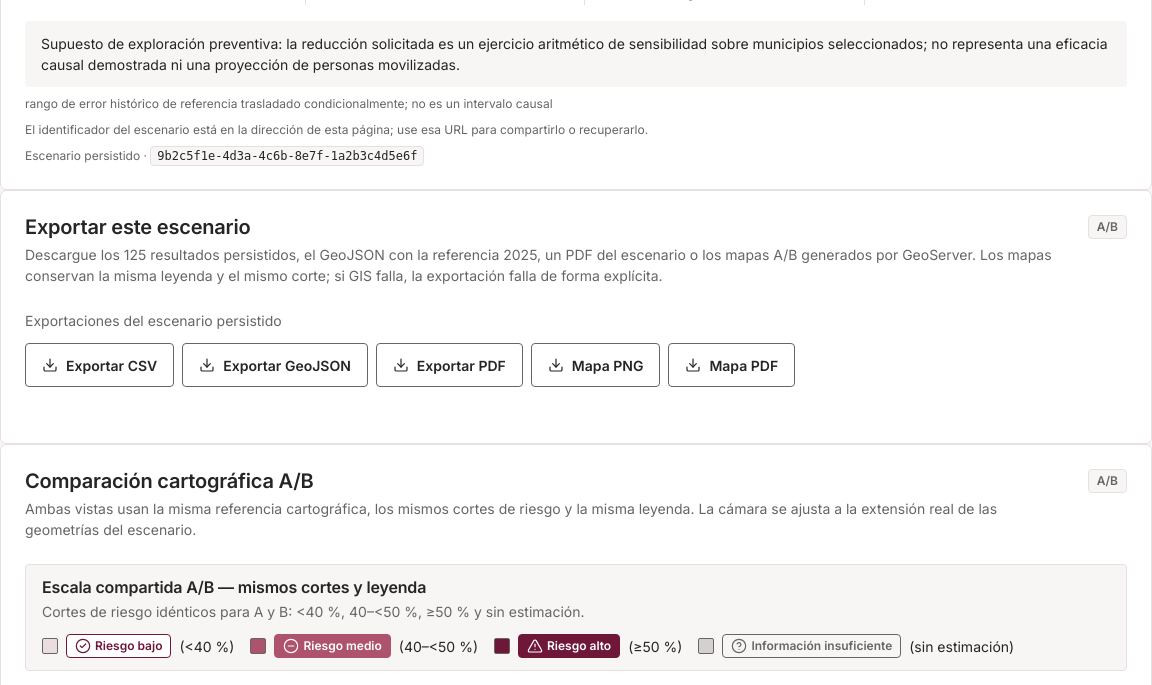
Test: ScenarioPage › exports the persisted scenario through the real report API
(page scrolled)
Expected: the button "Exportar GeoJSON" is enabled, [182, 343, 368, 387]
Expected: the button "Mapa PNG" is enabled, [531, 343, 660, 387]
Click the button "Exportar CSV": (100, 365) [25, 343, 174, 387]
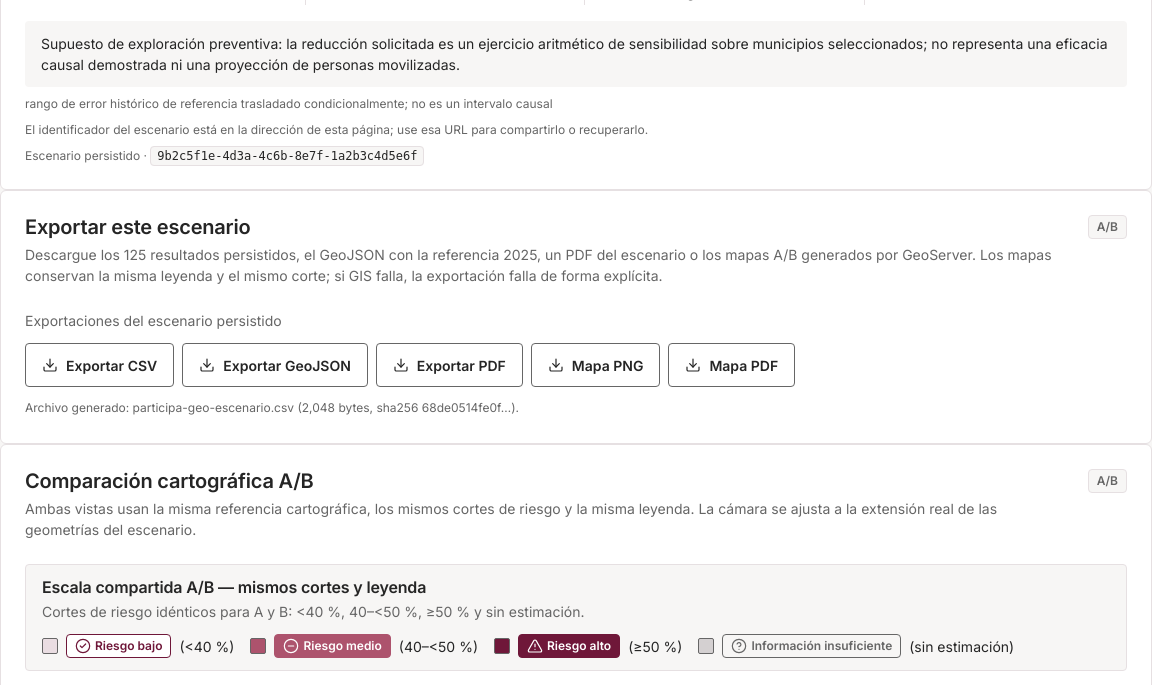
Expected: the text "Archivo generado: participa-geo-escenario.csv" is shown, [25, 400, 519, 415]
